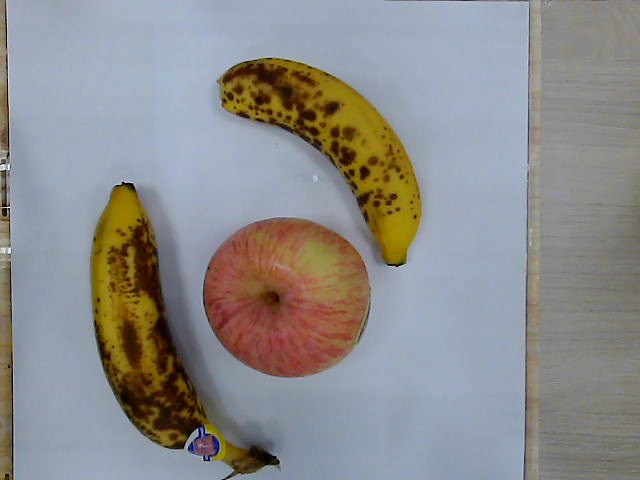fresh_apple: (203, 219, 371, 377)
rotten_banana: (90, 184, 279, 480), (217, 57, 424, 266)
